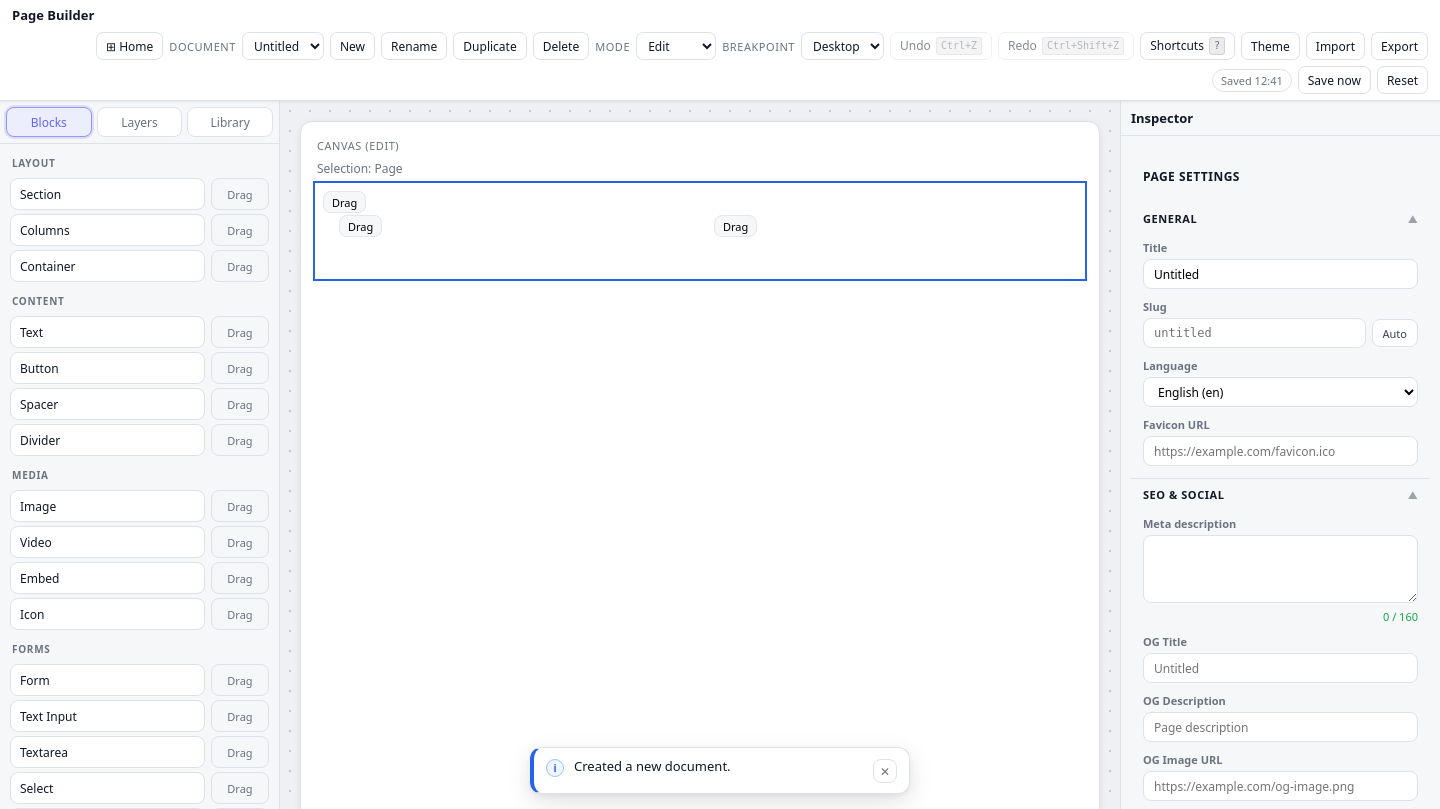
Test: DesignTokensPanel › opens when the Theme toolbar button is clicked
This screenshot has width=1440, height=809.
Expected: the button "Save now" is enabled, left=1298, top=66, right=1371, bottom=94
Expected: the element "Design Tokens" is not shown
Click the button with aria-label "Toggle Design Tokens panel" at (1270, 46), box left=1241, top=32, right=1300, bottom=60
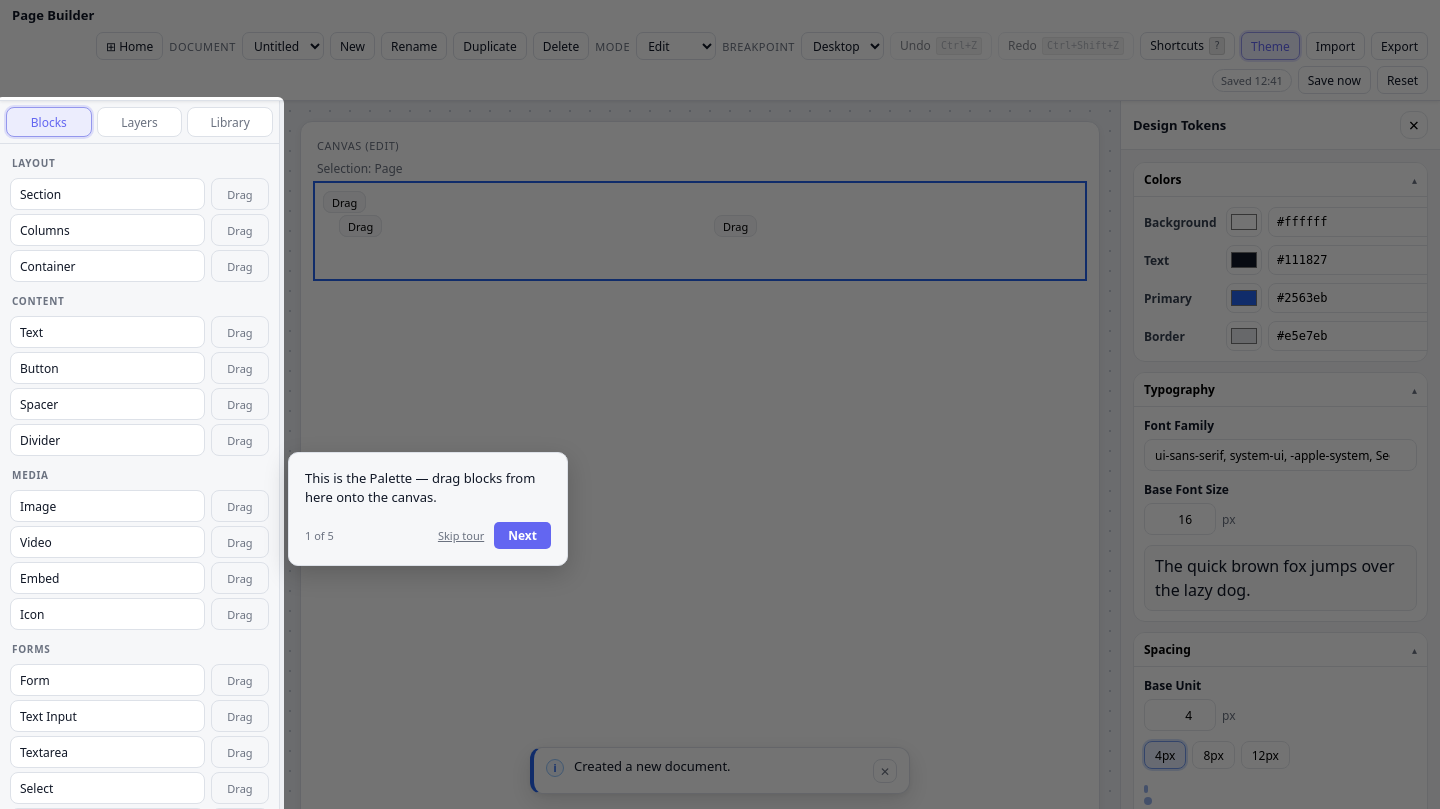
Now the button named "Close Design Tokens panel" is shown, box left=1400, top=111, right=1428, bottom=139
